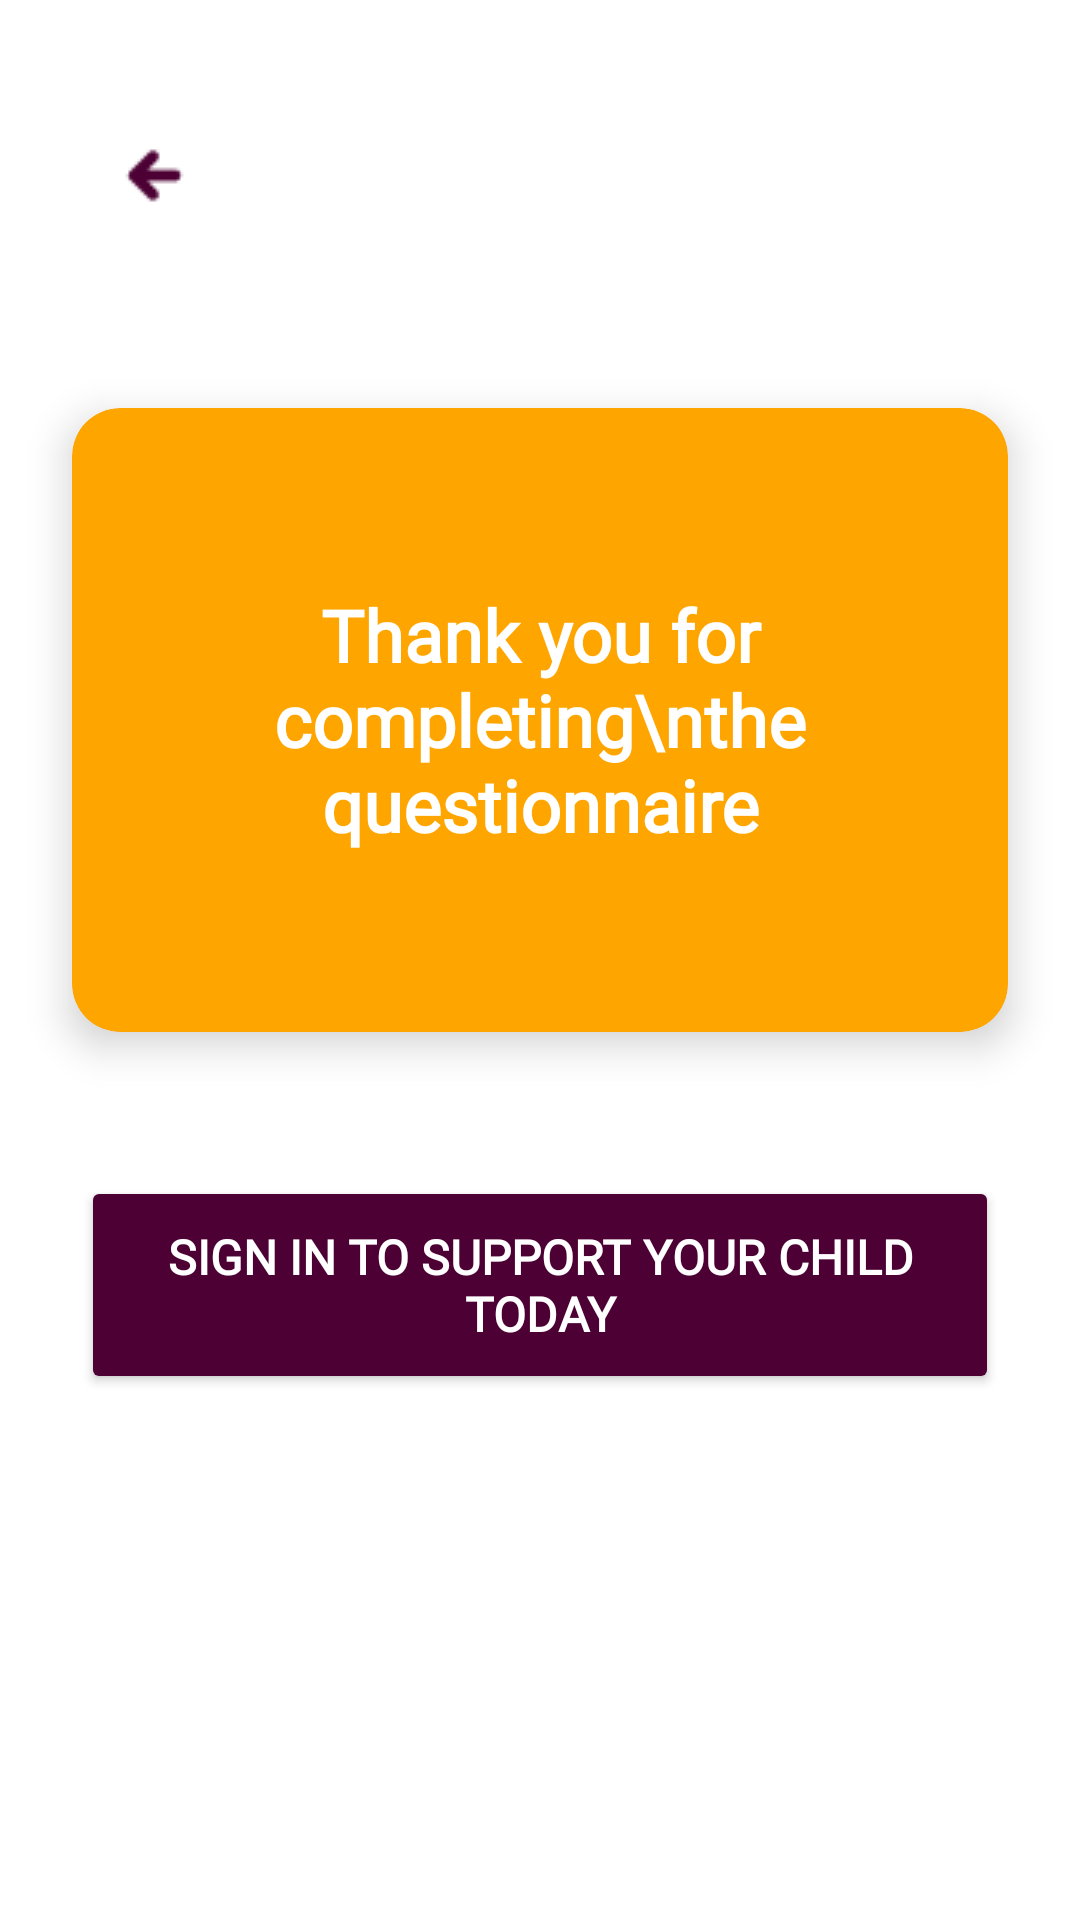

Icon click points for this 1080x1920 phone screenshot, format (x,y):
Back arrow: (154,175)
